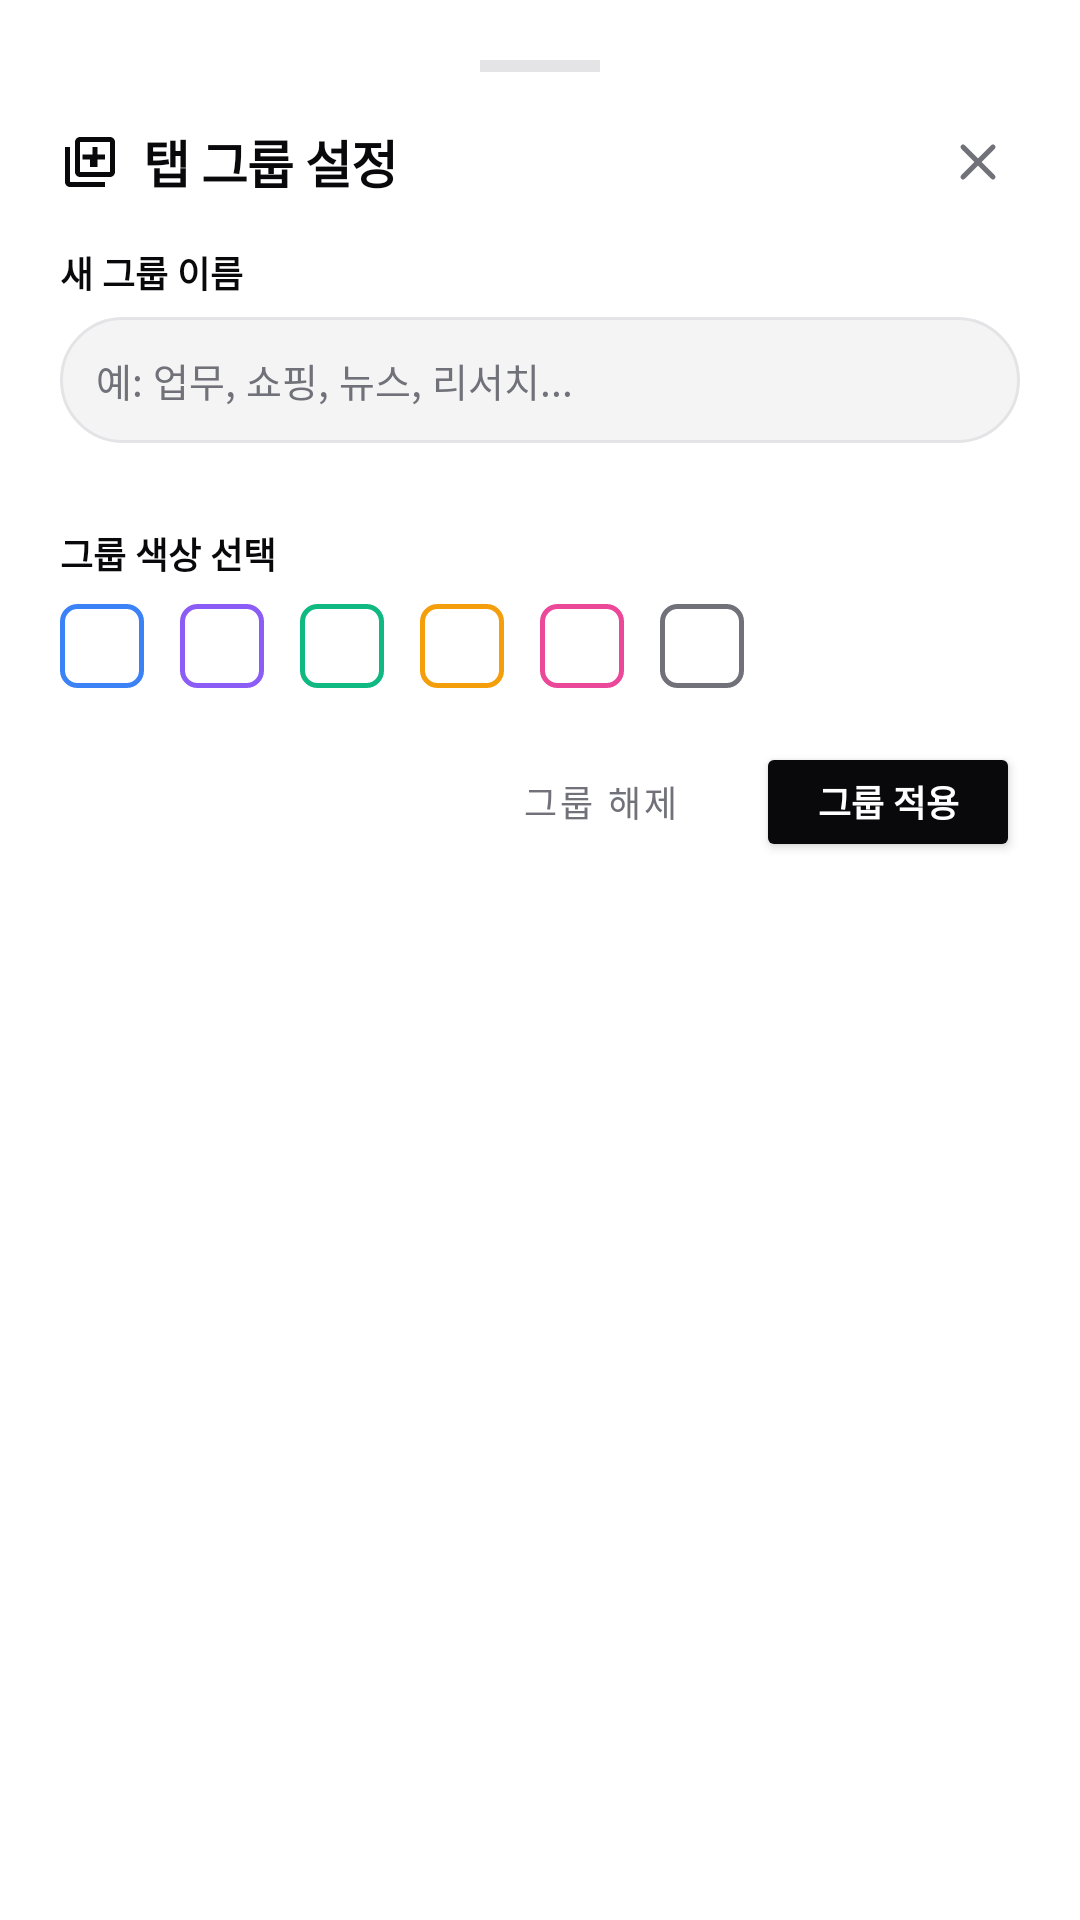

Screen size 1080x1920. Icon name, then its box in pixels as (x1, y1, x2, y2):
Close: (960, 144, 996, 180)
